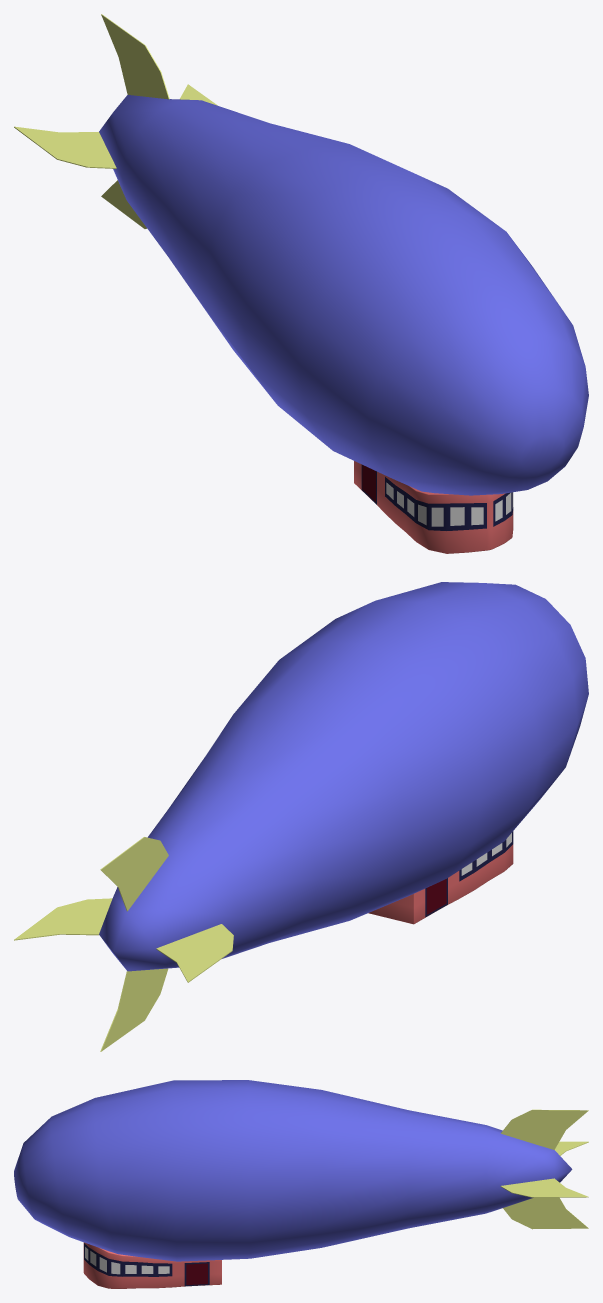
The model's file is Zeplin.fbx.
3 views of the same model, one above another, from view 1: azimuth 30°, elevation 25°; view 2: azimuth 150°, elevation 25°; view 3: azimuth 270°, elevation 25° (orthographic). The views are drawn at different scales.
Visible parts, largest first — view 1: Zeplin; view 2: Zeplin; view 3: Zeplin.
Part boxes in pixels (x1,y1,x2,y2): Zeplin: (14, 14, 588, 553); Zeplin: (14, 582, 588, 1051); Zeplin: (14, 1080, 588, 1288).
Bounding box in the file's own units: 2.81 × 3.21 × 8.91.
